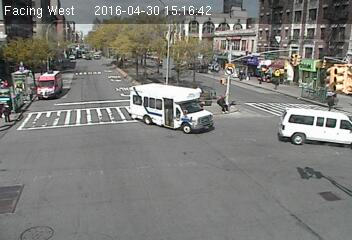neg: (225, 63, 235, 76), (251, 56, 260, 69), (207, 57, 216, 69), (262, 61, 270, 72)
pos: (215, 93, 232, 115)
